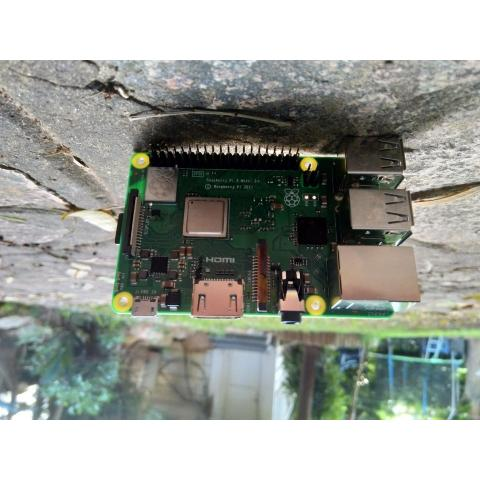Raspberry-Pi-3-Model-B-: (107, 128, 426, 328)
